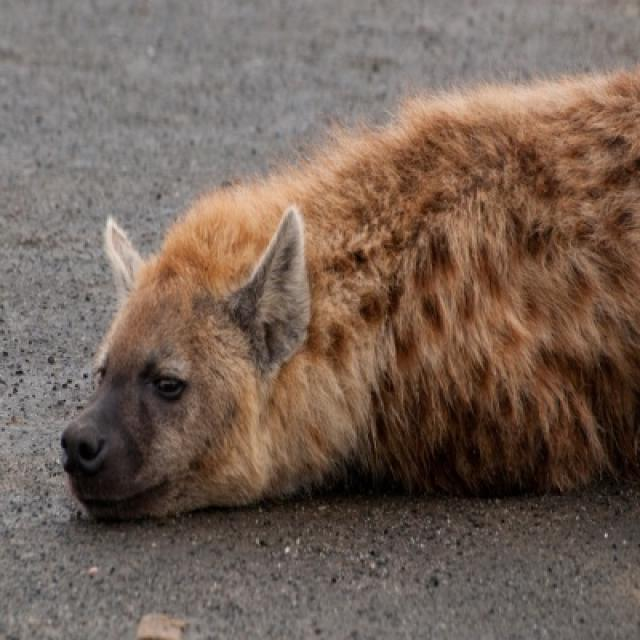hyena: (59, 64, 638, 526)
